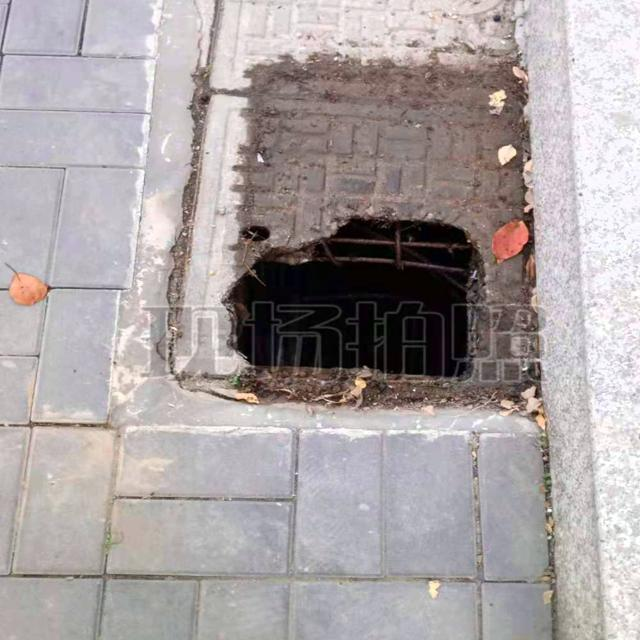broke: (182, 0, 582, 417)
